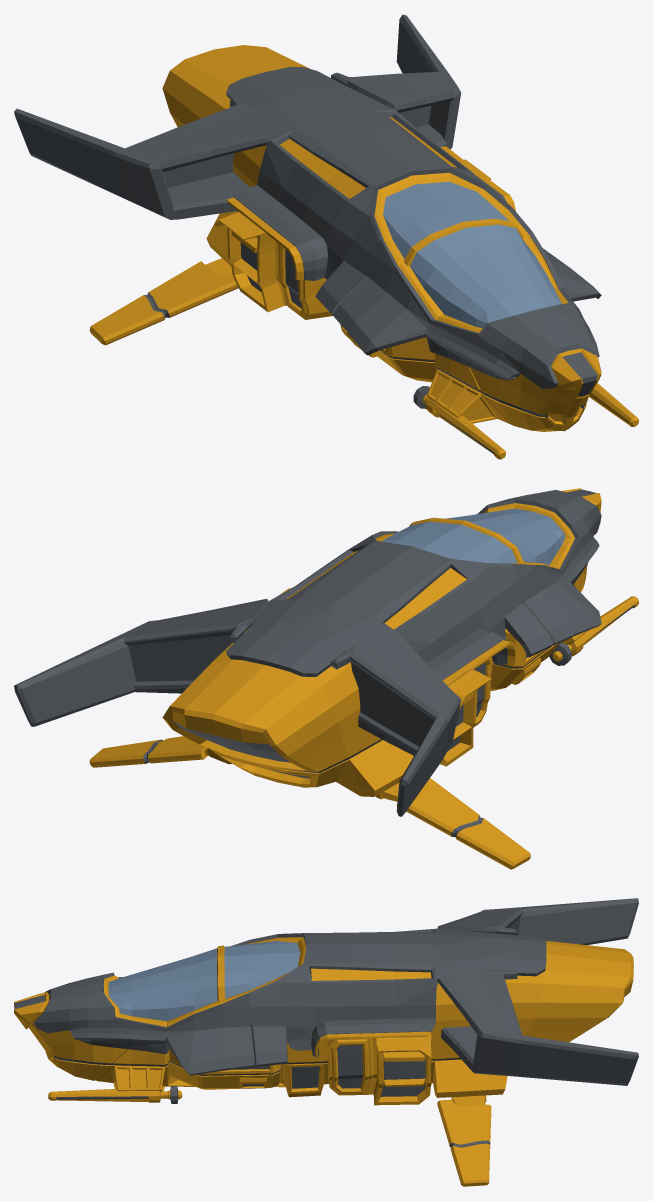
Rendered from Fighter_07_Yellow.fbx.
The picture shows the model from 3 angles, top to bottom: view 1: azimuth 30°, elevation 25°; view 2: azimuth 150°, elevation 25°; view 3: azimuth 270°, elevation 25°; orthographic projection. The views are drawn at different scales.
Parts seen in each view (by area): view 1: Fighter_07_Yellow; view 2: Fighter_07_Yellow; view 3: Fighter_07_Yellow.
Boxes of the visible parts, <box> form: Fighter_07_Yellow: <box>14,14,638,459</box>; Fighter_07_Yellow: <box>14,488,638,869</box>; Fighter_07_Yellow: <box>14,898,638,1186</box>.
Bounding box in the file's own units: 1400 × 602 × 2152.
3 materials, 3 textured.
